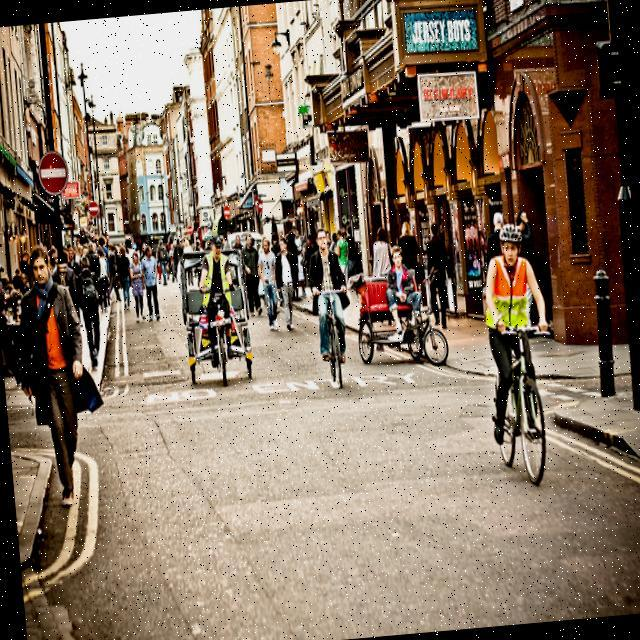fire_hydrant: (588, 259, 622, 394)
